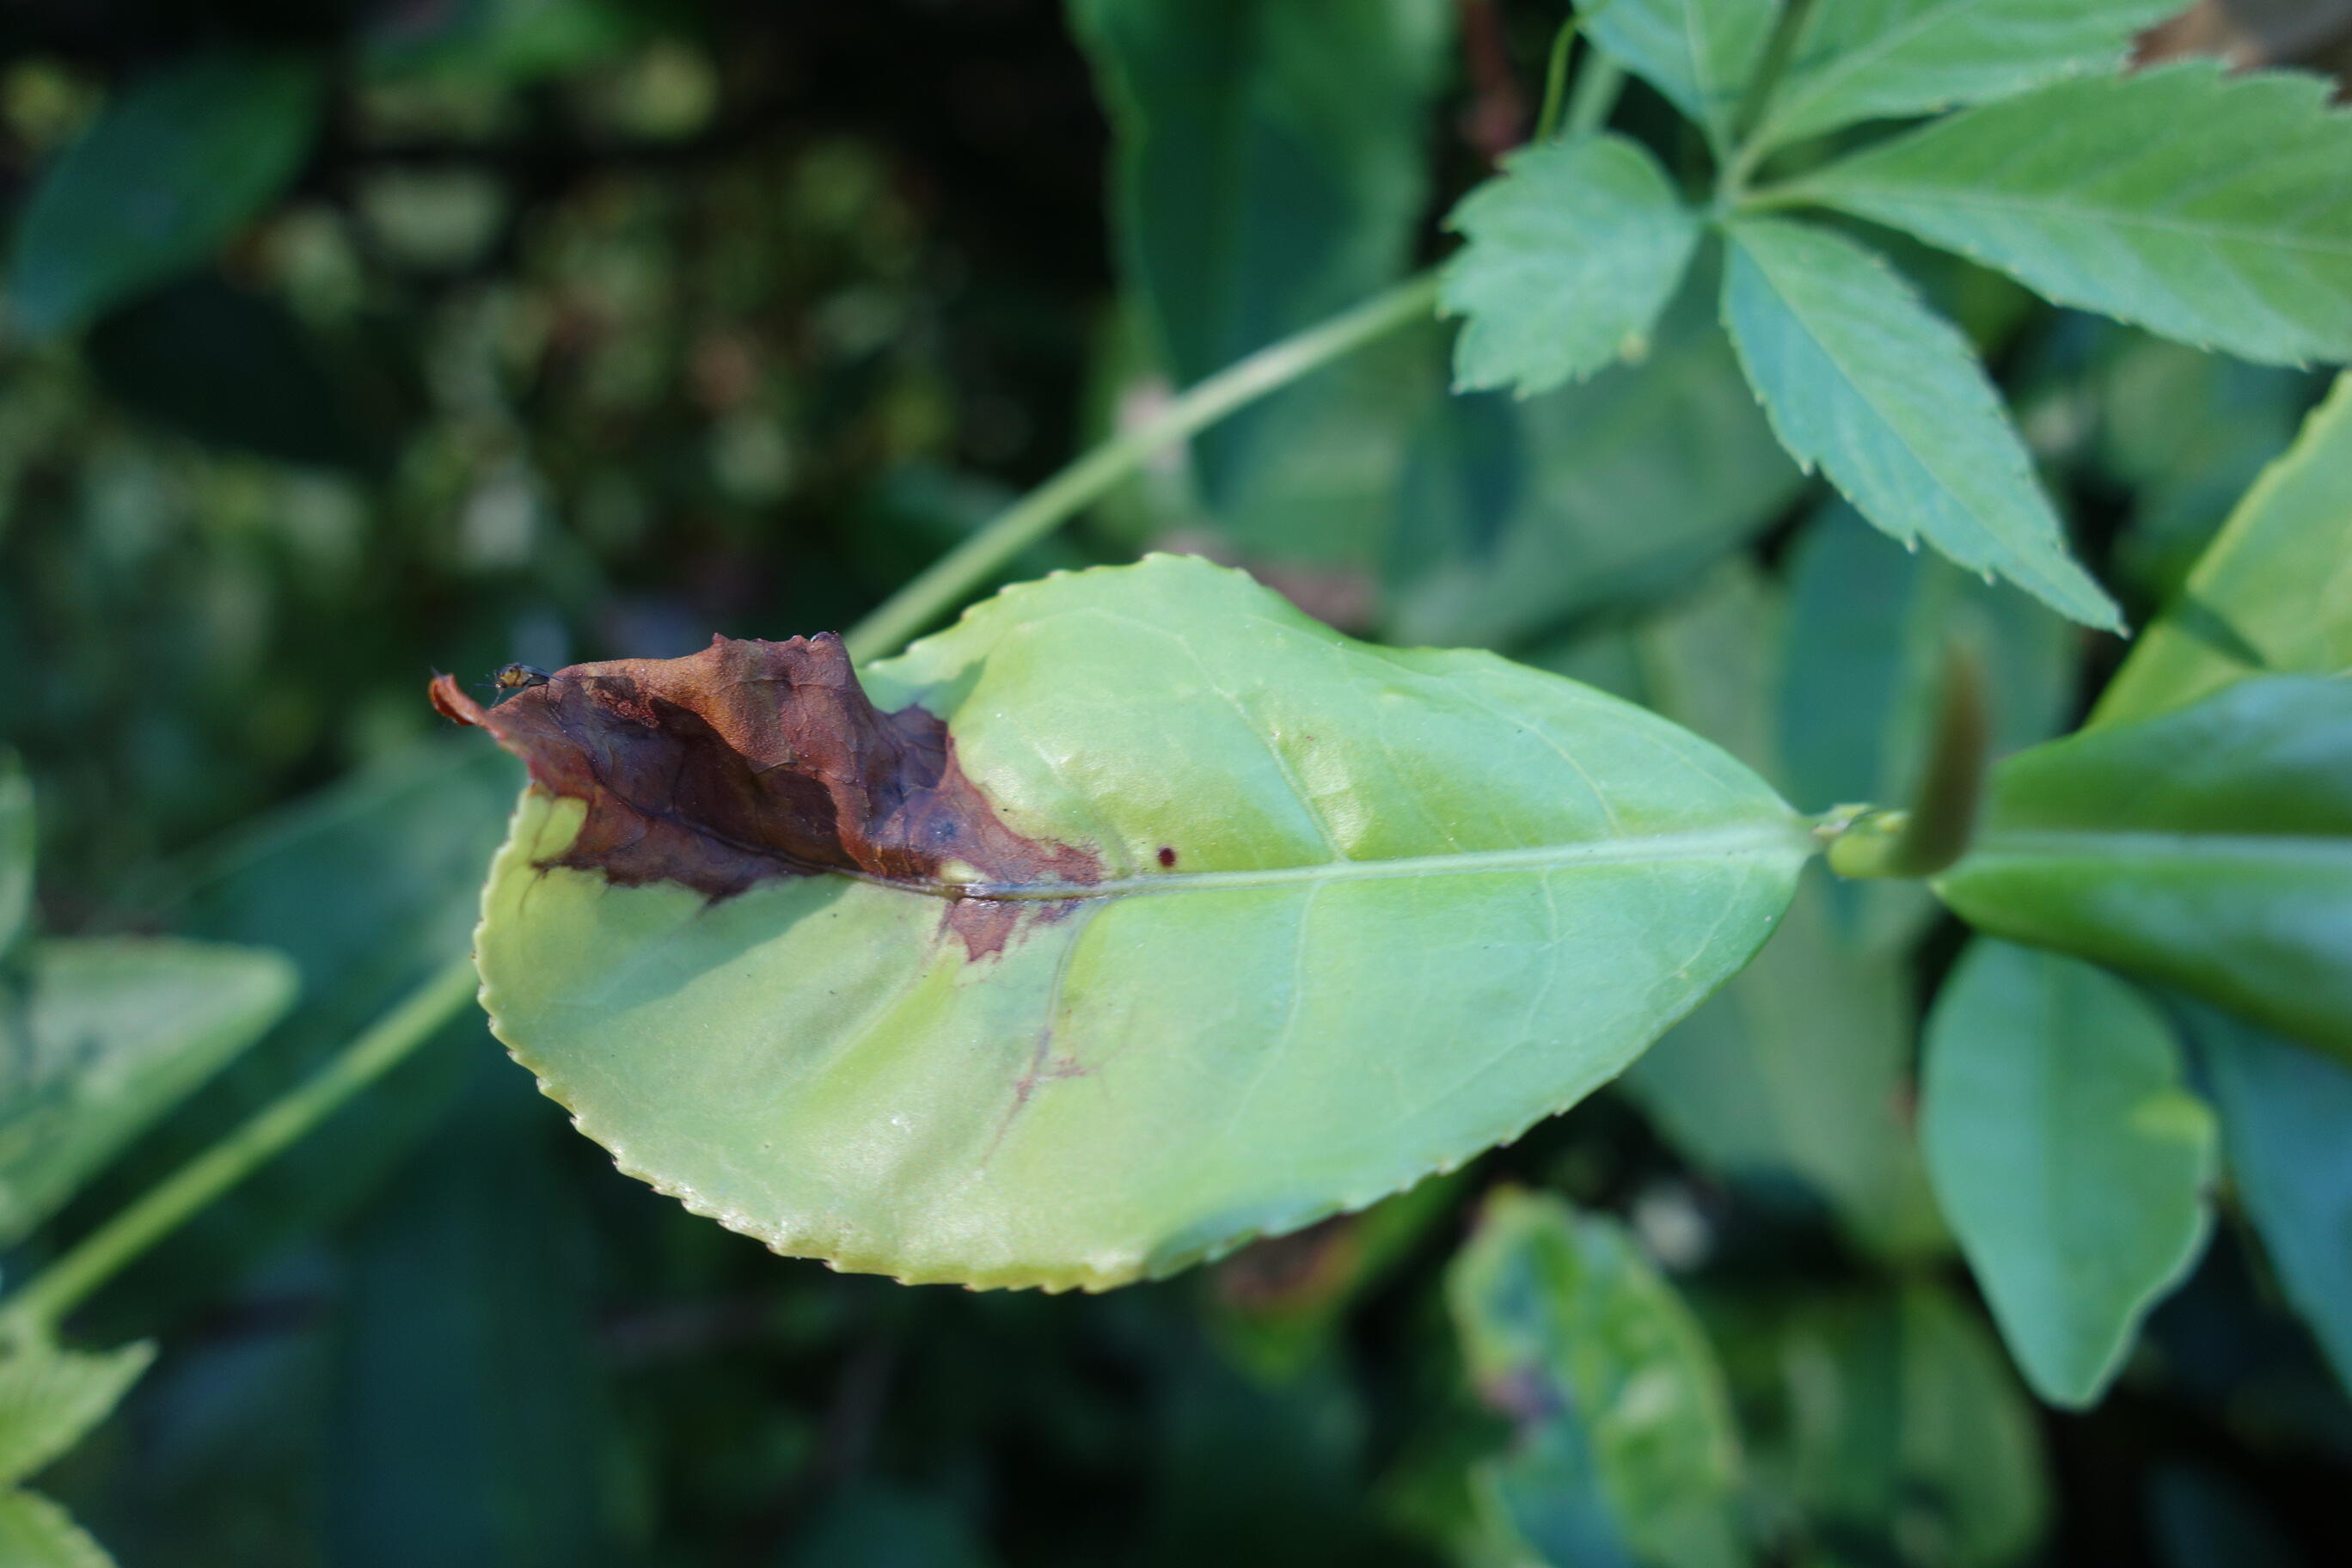tanju_high: (413, 555, 1813, 1302)
